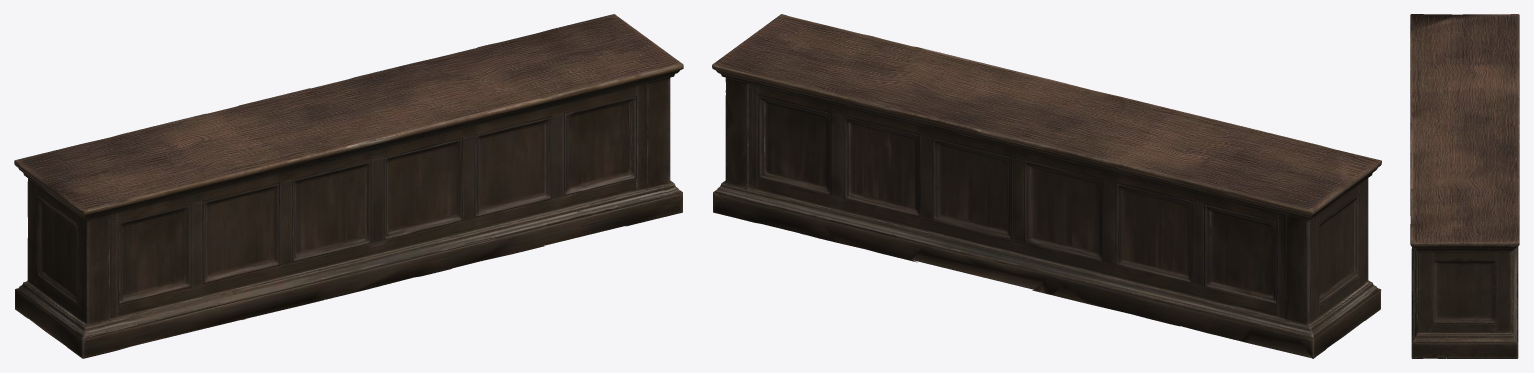
Rendered from shop-counter-long.glb.
3 views of the same model, side by side, from view 1: azimuth 30°, elevation 25°; view 2: azimuth 150°, elevation 25°; view 3: azimuth 270°, elevation 25° (orthographic). The views are drawn at different scales.
Visible parts, largest first — view 1: Mesh_0; view 2: Mesh_0; view 3: Mesh_0.
Part boxes in pixels (x1,y1,x2,y2): Mesh_0: (14, 14, 683, 358); Mesh_0: (712, 14, 1381, 358); Mesh_0: (1410, 14, 1519, 358).
Bounding box in the file's own units: 1.9 × 0.4493 × 0.3824.
Materials: 1 (1 with a texture image).
